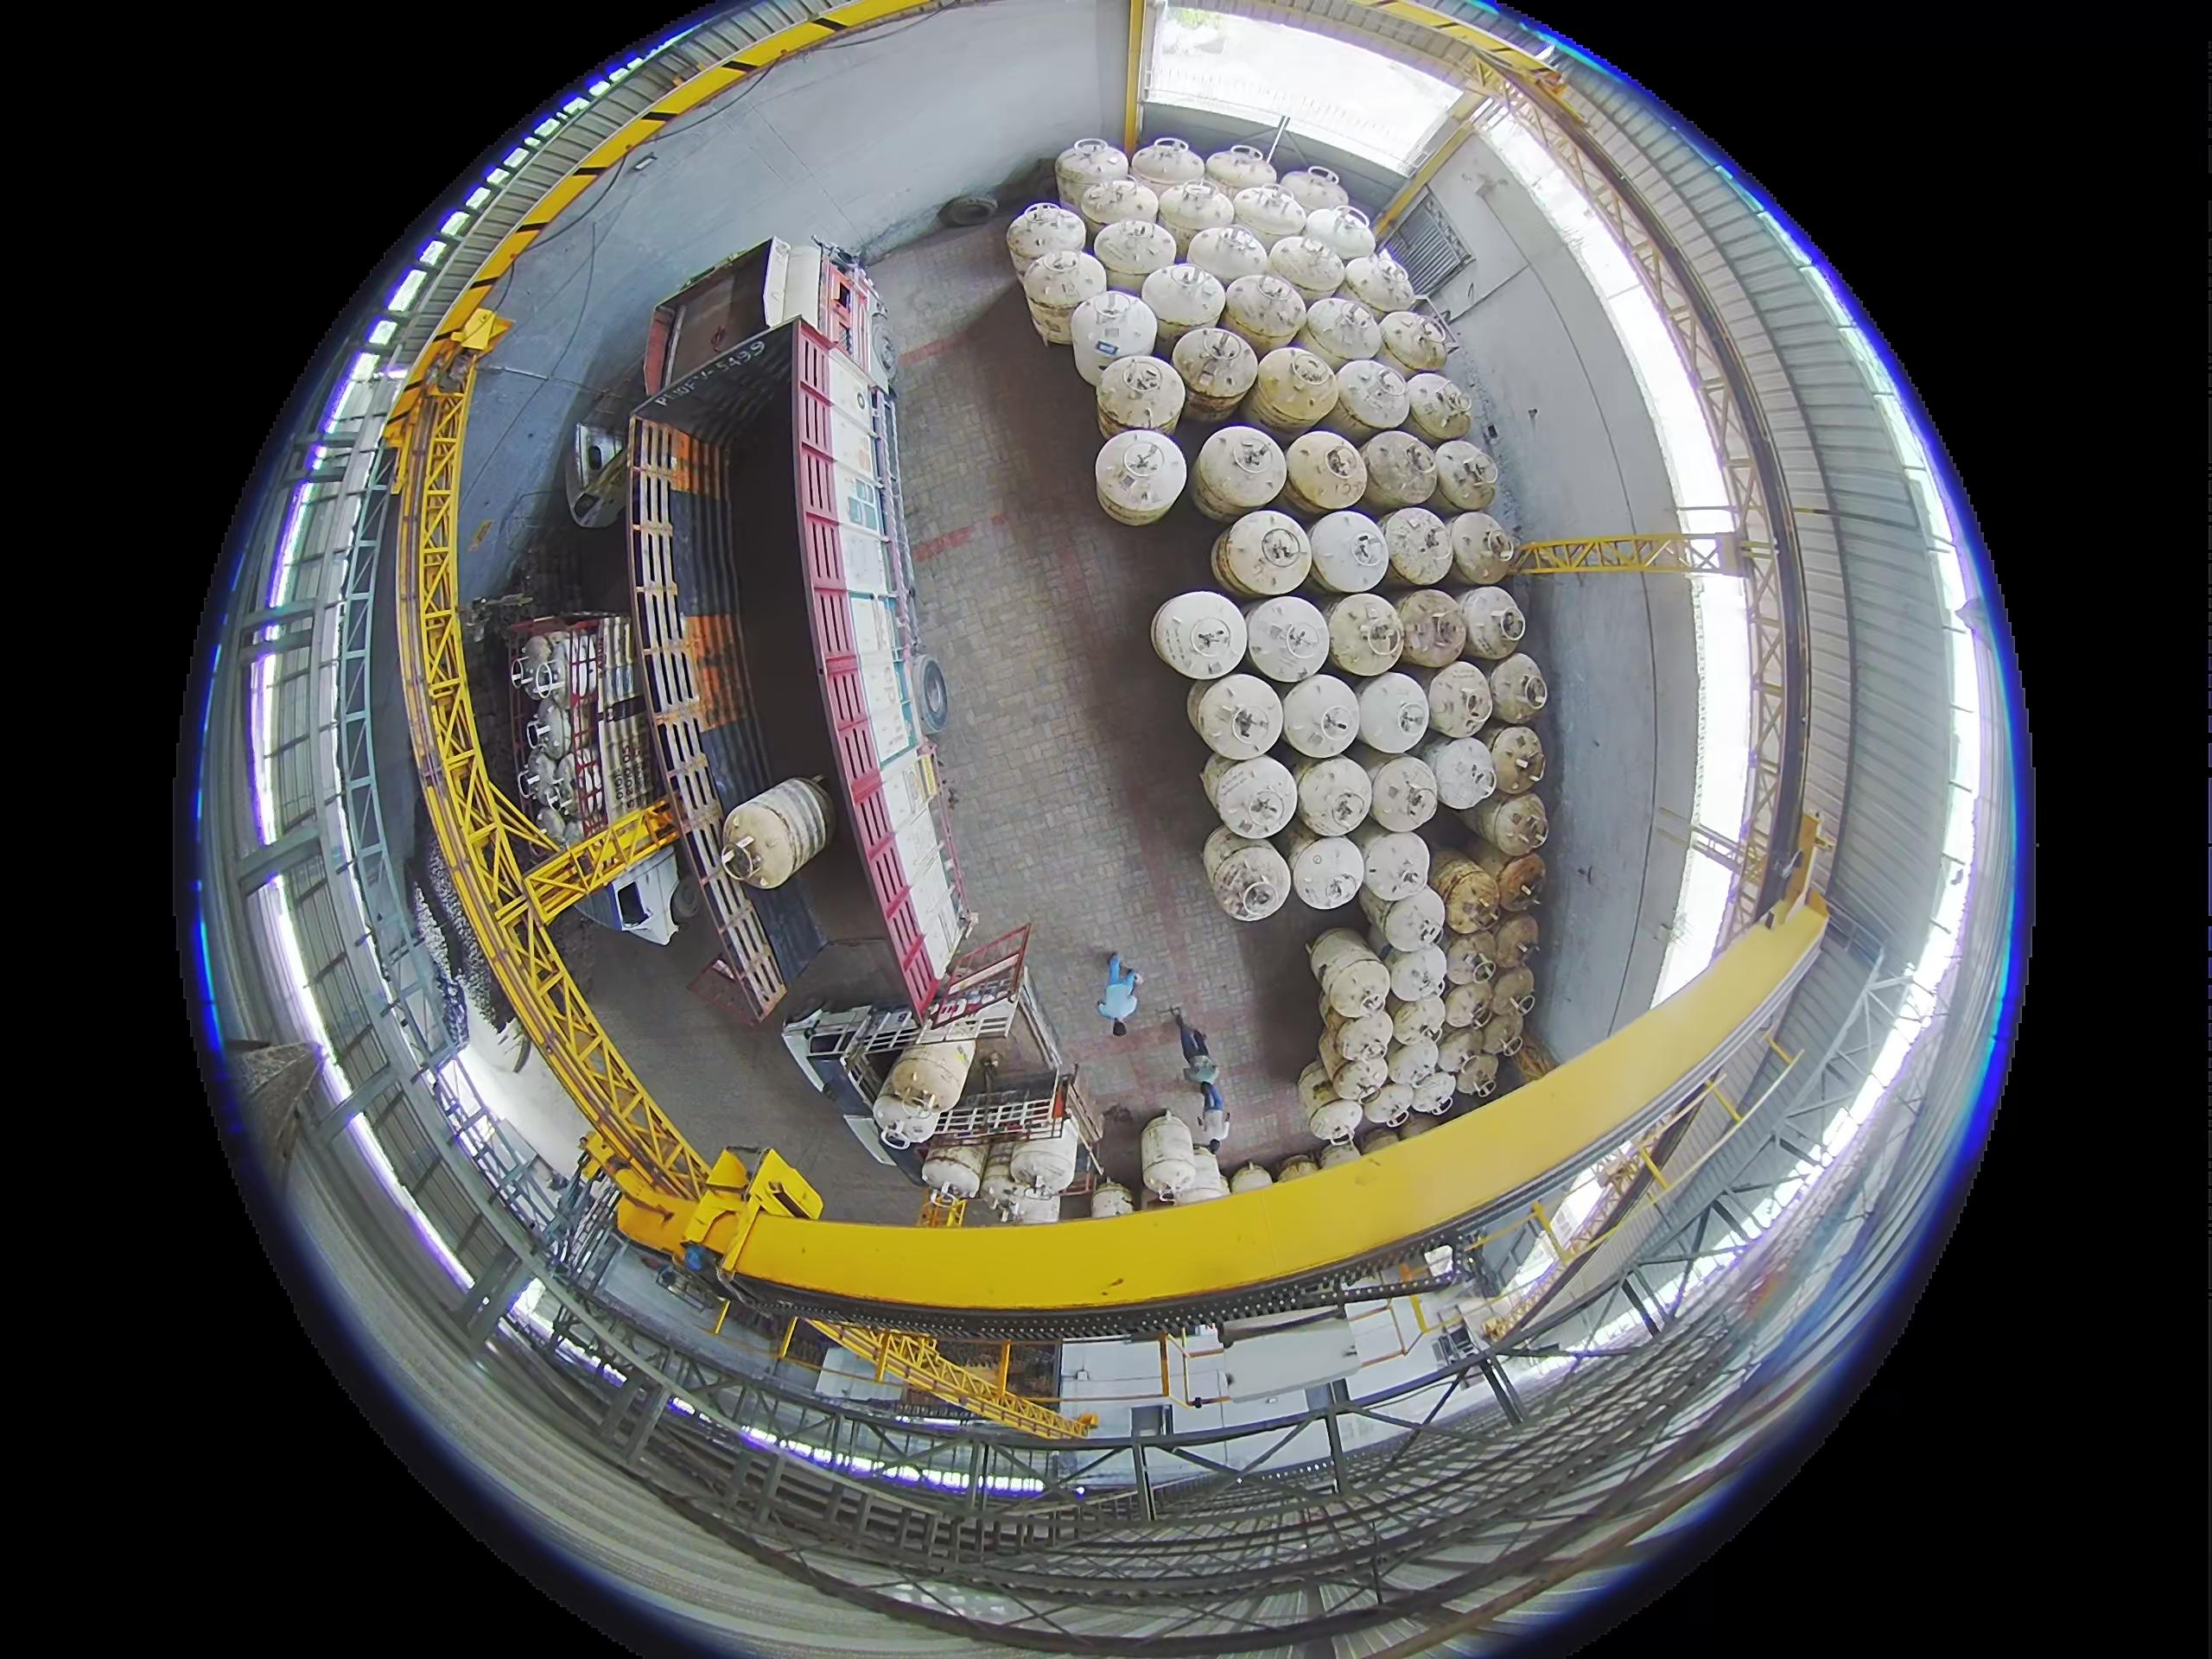cylinder: (1150, 589, 1249, 681), (1195, 425, 1287, 519), (1094, 429, 1183, 525), (1190, 673, 1284, 762), (1216, 509, 1310, 596), (1200, 831, 1289, 922), (1170, 326, 1258, 418), (1209, 753, 1299, 840), (1251, 347, 1341, 434), (1242, 594, 1329, 683), (1014, 247, 1096, 342), (1280, 673, 1366, 760), (1096, 352, 1181, 439), (1069, 291, 1150, 383), (1306, 509, 1392, 594), (1221, 272, 1308, 355), (1284, 430, 1367, 516), (1141, 261, 1224, 347), (1291, 755, 1374, 838), (1325, 592, 1407, 676), (1428, 850, 1507, 936), (1289, 833, 1371, 913), (1362, 429, 1440, 512), (1353, 673, 1430, 756), (1332, 355, 1411, 436), (1155, 179, 1237, 256), (1301, 295, 1383, 369), (1359, 829, 1435, 908), (1393, 589, 1470, 667), (1425, 660, 1500, 741), (1383, 507, 1458, 586), (1367, 755, 1442, 833), (1188, 221, 1271, 291), (1425, 735, 1498, 814), (1094, 218, 1172, 291), (1468, 786, 1548, 857), (1264, 232, 1345, 301), (1456, 586, 1529, 660), (1055, 138, 1130, 211), (1082, 176, 1160, 246), (1449, 511, 1521, 584), (1007, 200, 1082, 270), (1231, 185, 1310, 251), (1400, 371, 1470, 444), (1432, 439, 1500, 512), (1379, 310, 1453, 378), (1129, 138, 1204, 204), (1482, 723, 1548, 796), (1303, 204, 1378, 268), (1306, 927, 1381, 992), (1139, 1112, 1195, 1197), (1322, 955, 1393, 1021), (1341, 253, 1416, 315), (1484, 652, 1548, 723), (1383, 946, 1449, 1009), (1205, 143, 1278, 199), (1278, 167, 1350, 221), (1355, 873, 1413, 939), (1440, 929, 1501, 990), (1385, 1035, 1444, 1096), (1332, 1009, 1393, 1068), (1296, 1060, 1346, 1129), (1388, 997, 1446, 1053), (1494, 852, 1548, 911), (516, 636, 564, 699), (1306, 1096, 1364, 1147), (1331, 1056, 1388, 1107), (1487, 964, 1536, 1023), (519, 751, 570, 807), (1442, 981, 1496, 1032), (1479, 1009, 1529, 1061), (523, 704, 571, 758), (1493, 915, 1541, 969), (1362, 1080, 1418, 1127), (1315, 1018, 1357, 1080), (1181, 1148, 1228, 1201), (1409, 1070, 1458, 1117), (1435, 1026, 1480, 1075), (1456, 1051, 1500, 1096), (1228, 1161, 1273, 1194), (531, 805, 570, 842), (1359, 1124, 1400, 1155), (1277, 1154, 1320, 1183), (1317, 1141, 1360, 1169)
truck: (631, 239, 975, 1098), (655, 711, 794, 1049), (505, 610, 660, 873), (646, 232, 859, 406), (404, 1042, 564, 1251), (869, 383, 914, 662), (678, 612, 754, 730), (1167, 1328, 1238, 1420)
